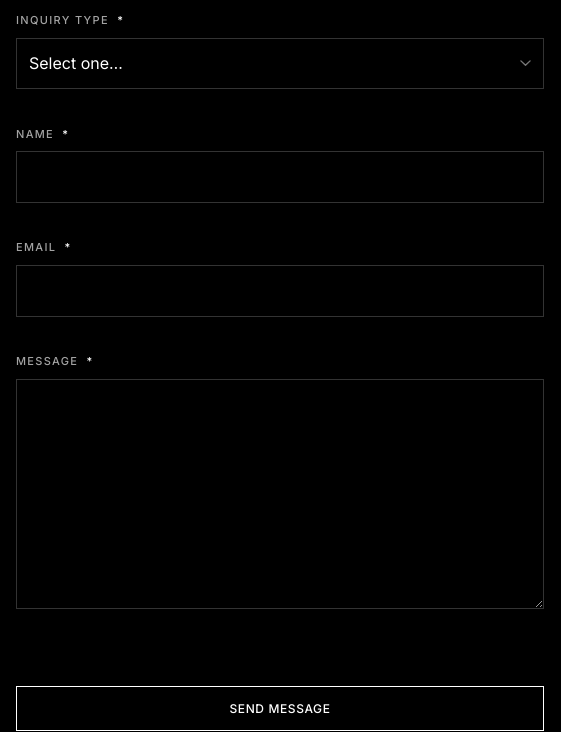
Test: ContactView › reveals adaptive fields and a blurb once a type is chosen
Select "Booking" in the dropdown with id "inquiry" at (280, 63), box [16,38,544,89]
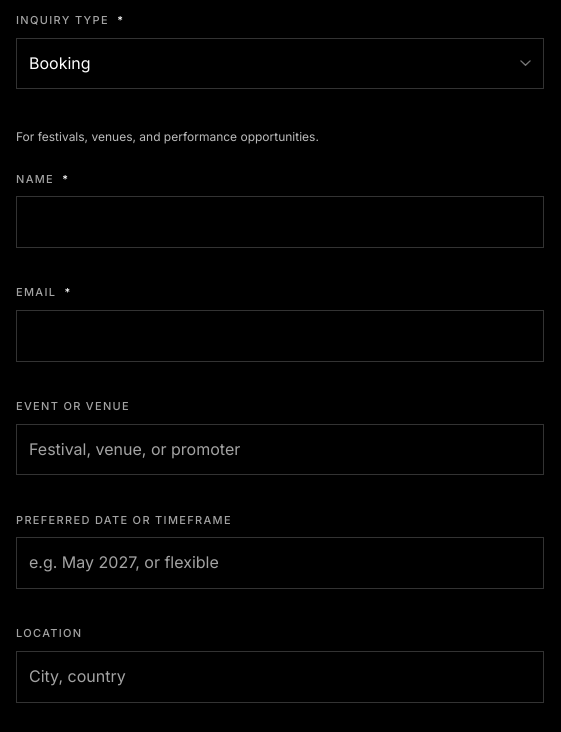
Result: the field with id "eventVenue" is shown at [16,424,544,475]
Result: the text with class "contact-form__blurb" reads "For festivals, venues, and performance opportunities." at [16,129,319,144]
